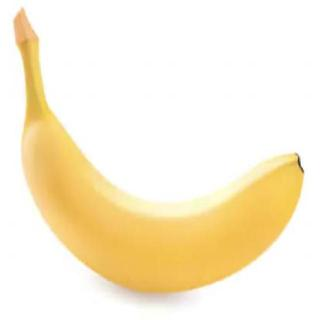banana: (20, 115, 306, 297)
